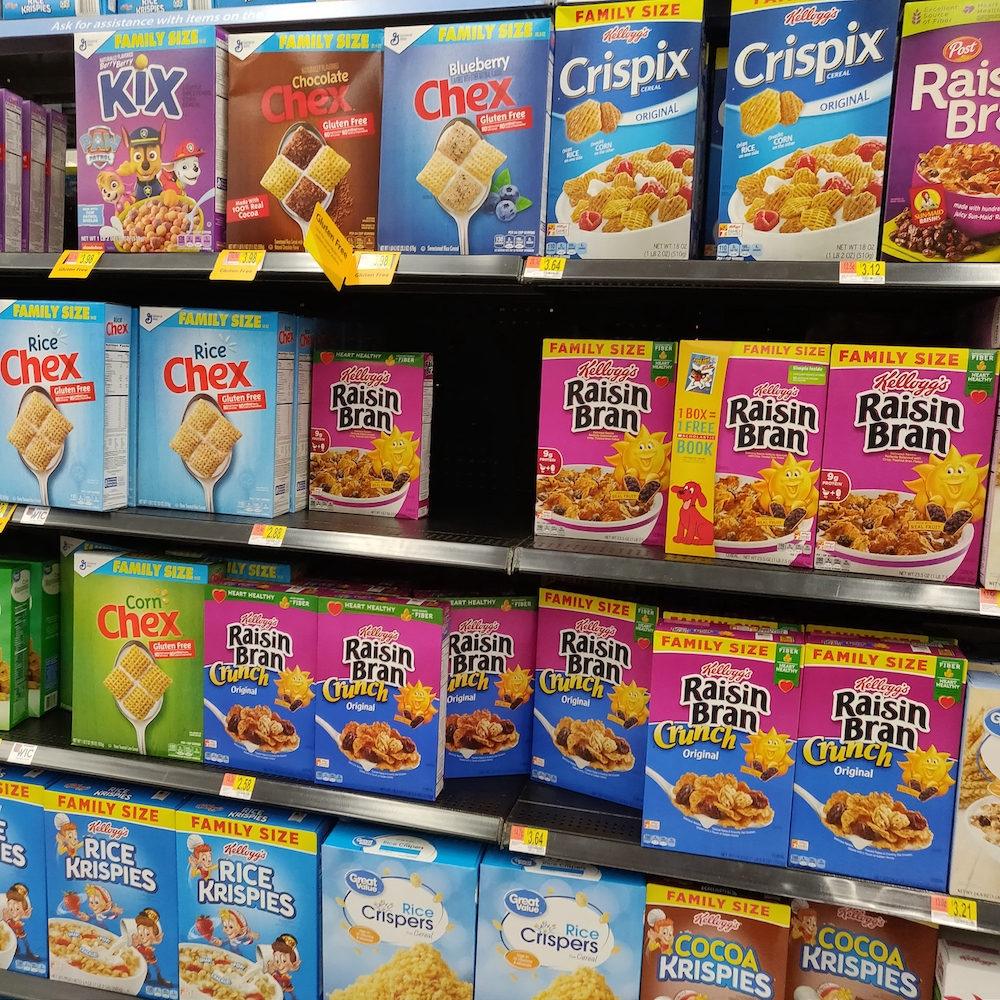Kix Berry -568919964: (68, 37, 222, 260)
